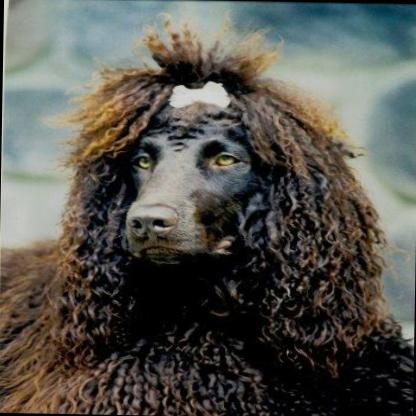Irish_water_spaniel: (0, 6, 415, 416)
